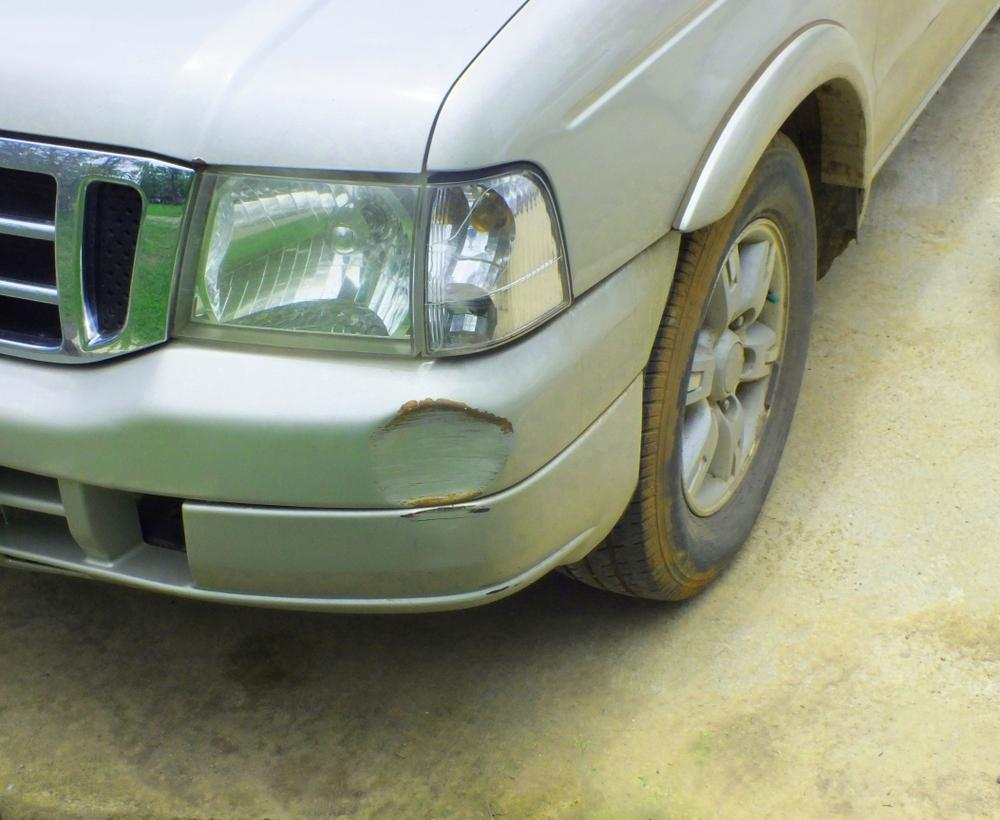dent: (369, 398, 513, 503)
scratch: (398, 504, 499, 524)
